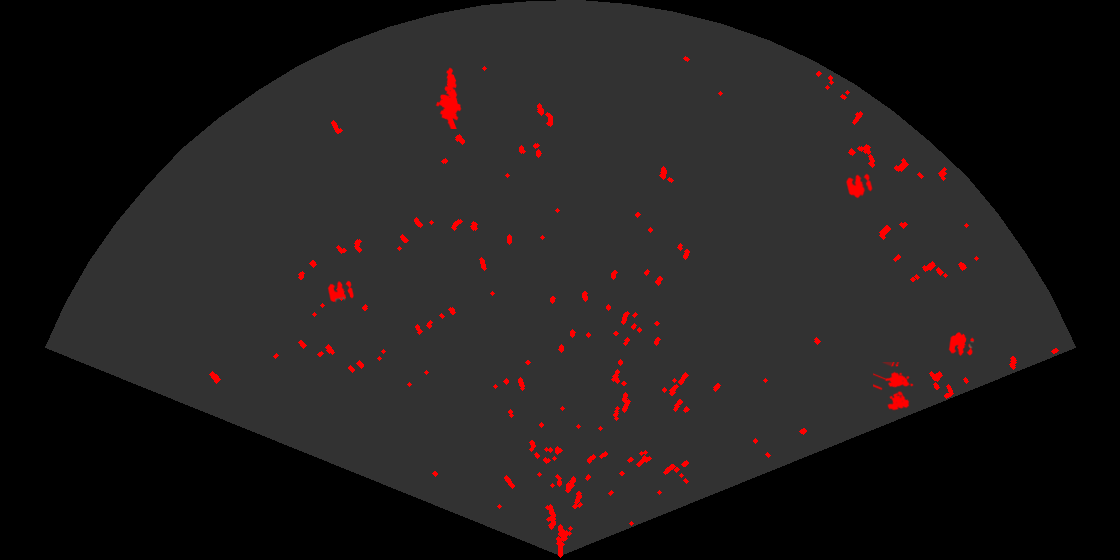ball: (844, 172, 874, 200), (947, 331, 976, 358), (326, 279, 355, 304)
cage: (873, 362, 915, 412)
frogman: (434, 66, 463, 129)
